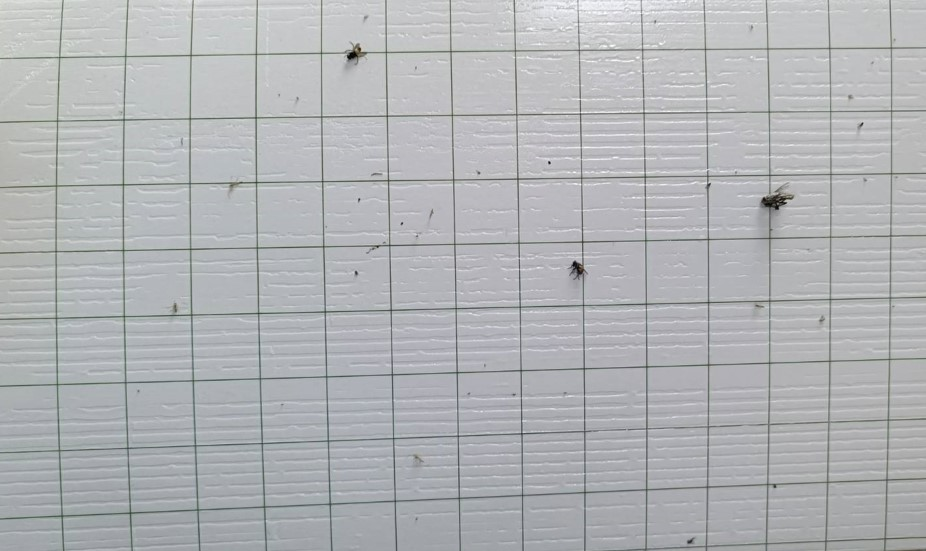fly: (761, 182, 799, 212), (565, 257, 590, 281), (345, 45, 369, 64)
test: (368, 242, 391, 255), (226, 181, 245, 195), (408, 454, 429, 466), (172, 301, 182, 319), (752, 299, 768, 308), (702, 177, 713, 188), (686, 534, 698, 544), (353, 268, 361, 281), (295, 99, 305, 109), (770, 479, 778, 491), (813, 314, 826, 321), (371, 171, 386, 177), (858, 119, 866, 128), (858, 176, 867, 184), (733, 169, 741, 178), (868, 58, 876, 66), (413, 64, 421, 71), (414, 514, 420, 523), (358, 15, 371, 19), (747, 24, 754, 31), (847, 94, 854, 101), (511, 391, 518, 398), (544, 159, 552, 165), (562, 391, 570, 397), (133, 387, 141, 393), (396, 217, 405, 222), (475, 168, 481, 175), (427, 210, 436, 214), (463, 391, 472, 395), (279, 401, 285, 407), (482, 362, 488, 367), (892, 37, 898, 41), (652, 19, 656, 24), (358, 198, 362, 201)
